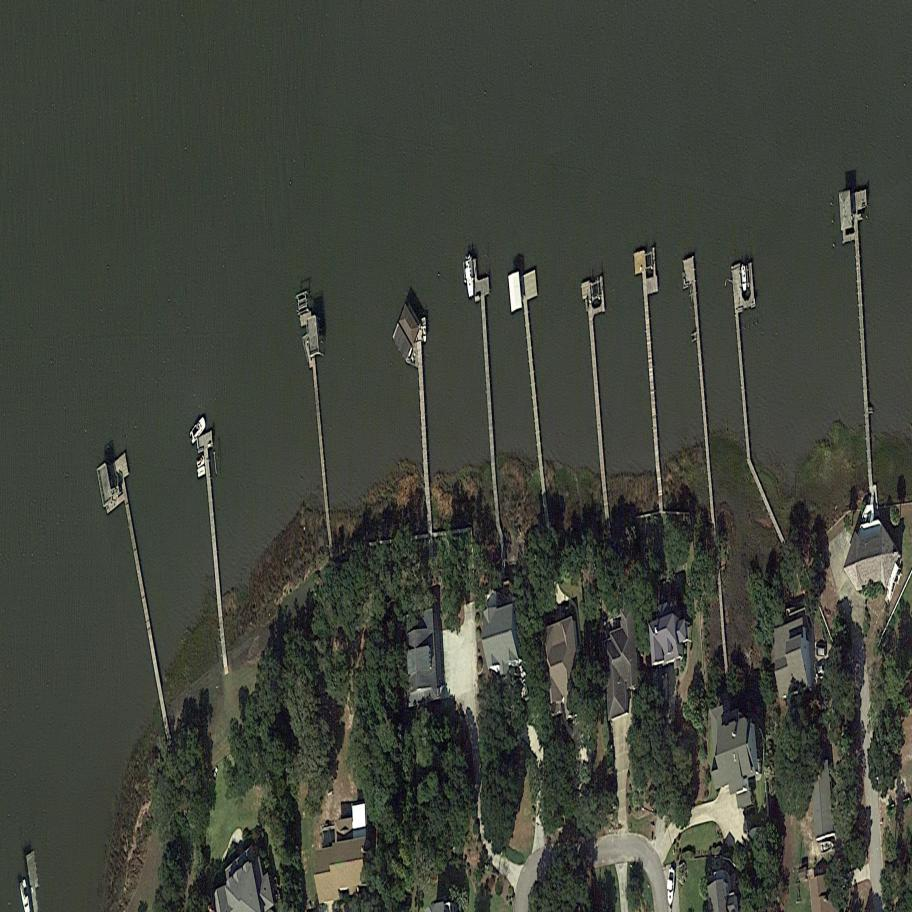ship: (185, 414, 211, 447), (464, 255, 476, 298), (666, 867, 675, 907), (819, 839, 835, 854), (740, 264, 747, 293), (196, 465, 207, 480), (421, 317, 427, 344), (195, 453, 205, 469)
small-vehicle: (814, 646, 828, 657)
